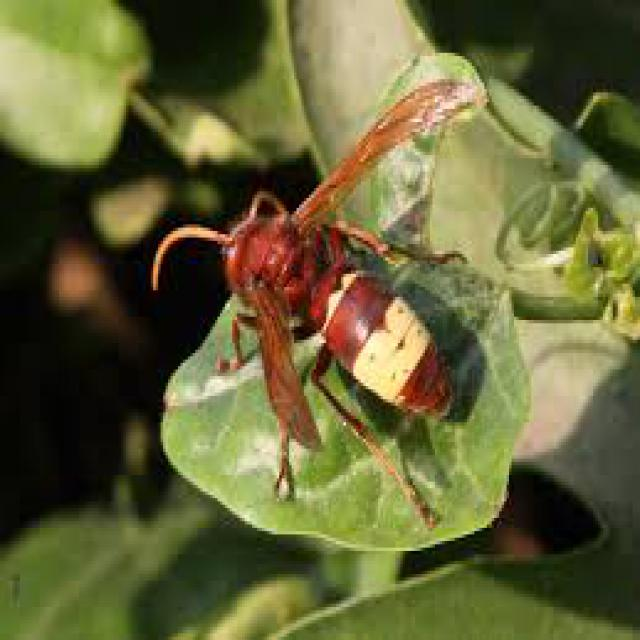Vespa Orientalis: (134, 66, 509, 552)
